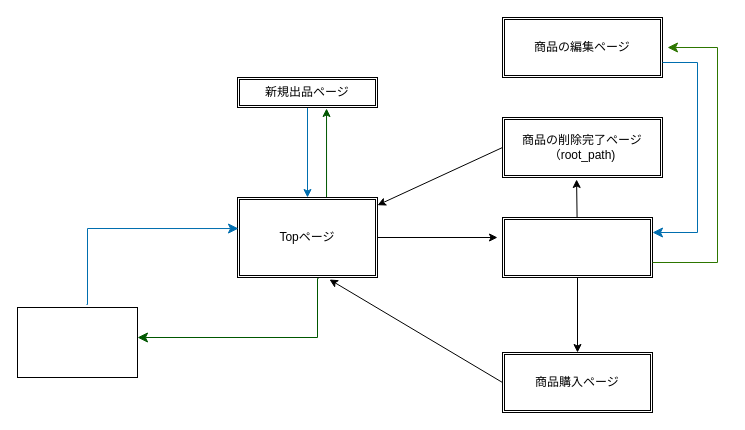
The diagram is 745 pixels wide and 430 high, and some of its shapes have lost their labels. Here are the shapes that lost their labels. From the top down, the centre of each, then its label:
(x=577, y=247): 商品の詳細ページ
(x=77, y=342): 新規登録ページ Sign_up
